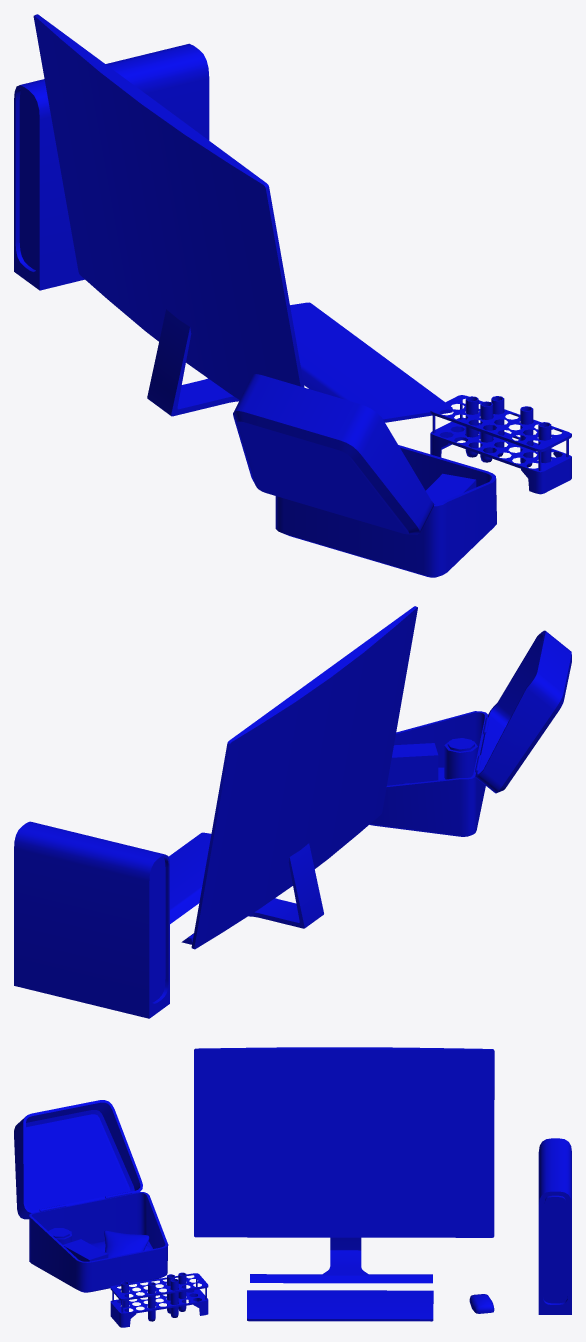
Rendered from ClutterPile_1.FBX.
3 views of the same model, one above another, from view 1: azimuth 30°, elevation 25°; view 2: azimuth 150°, elevation 25°; view 3: azimuth 270°, elevation 25° (orthographic). The views are drawn at different scales.
Visible parts, largest first — view 1: Desktop_PC001; view 2: Desktop_PC001; view 3: Desktop_PC001.
Part boxes in pixels (x1,y1,x2,y2): Desktop_PC001: (14,14,571,577); Desktop_PC001: (14,606,571,1018); Desktop_PC001: (14,1047,571,1327).
Bounding box in the file's own units: 13.9 × 11.72 × 29.45.
